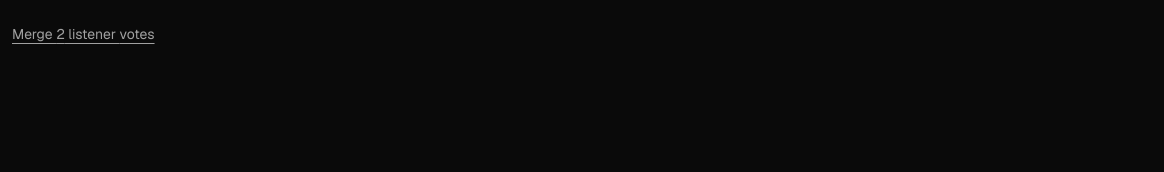
it: MergeBallotPrompt › offers the merge again from a one-line control after it was dismissed
Click the button "Merge 2 listener votes" at (83, 34), box x1=12 y1=12 x2=154 y2=56
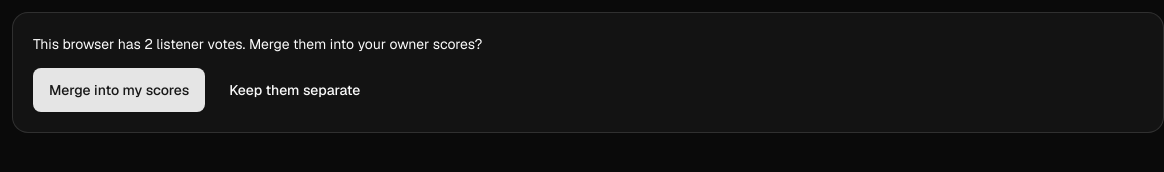
Expected: the button "Merge into my scores" is shown, x1=33 y1=68 x2=205 y2=112
